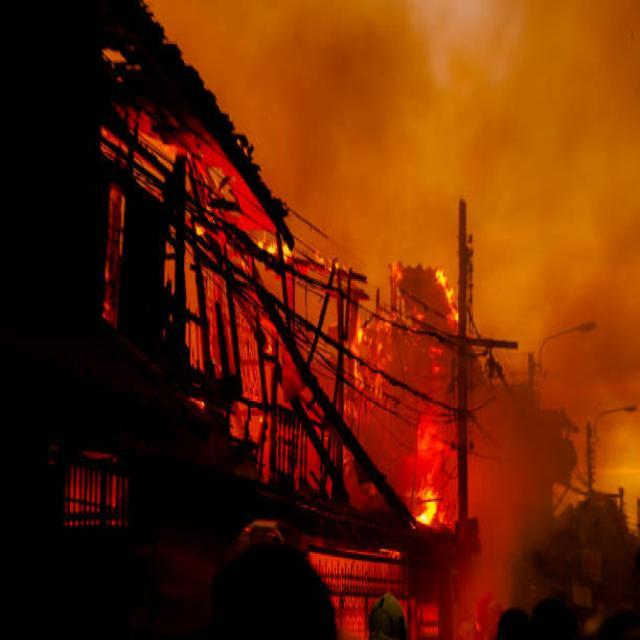Fire: (366, 262, 481, 390), (421, 492, 444, 529)
Smoke: (238, 0, 612, 176)
